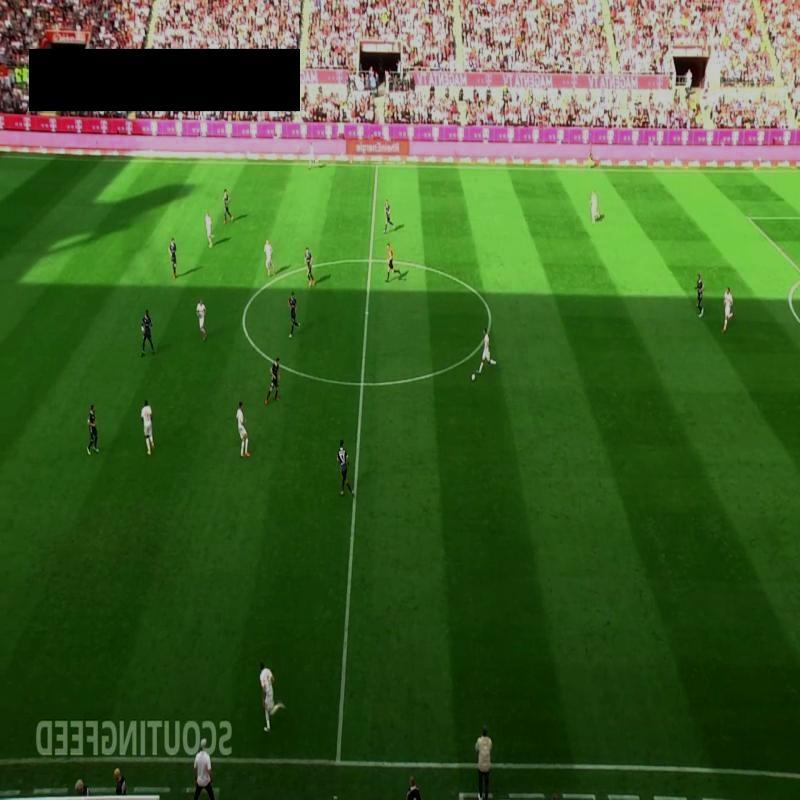13: (369, 158, 383, 172)
14: (362, 253, 376, 266)
15: (355, 376, 369, 394)
16: (320, 738, 358, 788)
9: (741, 210, 755, 224)
c: (234, 305, 254, 324), (484, 310, 498, 324)
